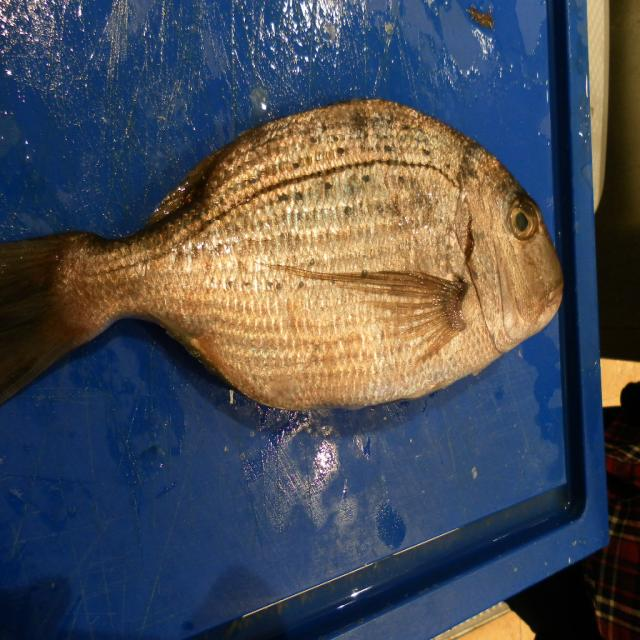Red-Sea-Bream-mercan-: (0, 96, 565, 415)
